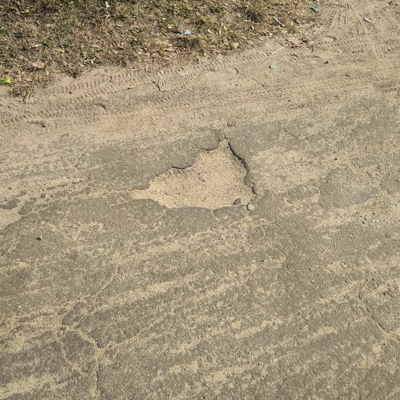pothole: (129, 134, 260, 214)
